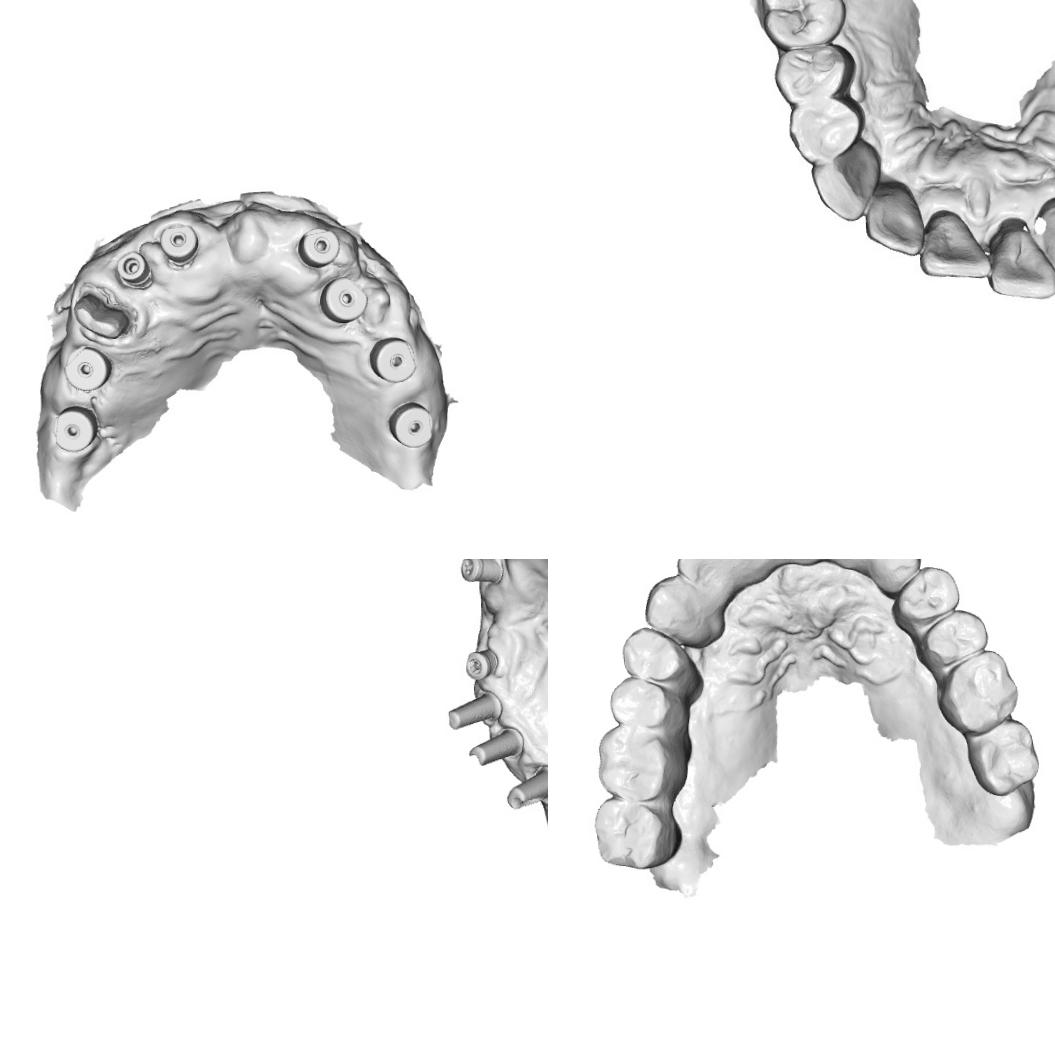abutment: (441, 689, 504, 730), (467, 726, 527, 767), (503, 761, 548, 811)
canine: (810, 137, 889, 224), (642, 572, 711, 647), (870, 559, 923, 593)
crown: (72, 290, 138, 344)
implant: (61, 343, 114, 393), (367, 335, 418, 385), (318, 274, 369, 324), (386, 399, 435, 449), (51, 403, 99, 454), (157, 221, 200, 270), (295, 226, 342, 270), (115, 248, 154, 292)
implant_plus: (462, 646, 500, 682), (457, 559, 504, 587)
incisor: (862, 174, 930, 254), (988, 219, 1055, 300), (920, 208, 992, 281), (710, 559, 777, 588), (674, 559, 729, 594), (1038, 199, 1055, 280), (826, 559, 875, 574)
molar: (939, 648, 1019, 736), (589, 794, 678, 870), (963, 717, 1042, 798), (596, 724, 675, 802), (763, 0, 845, 50)
premolar: (772, 39, 854, 108), (784, 100, 864, 165), (618, 623, 688, 688), (888, 564, 962, 625), (917, 607, 987, 665), (605, 673, 673, 731)
